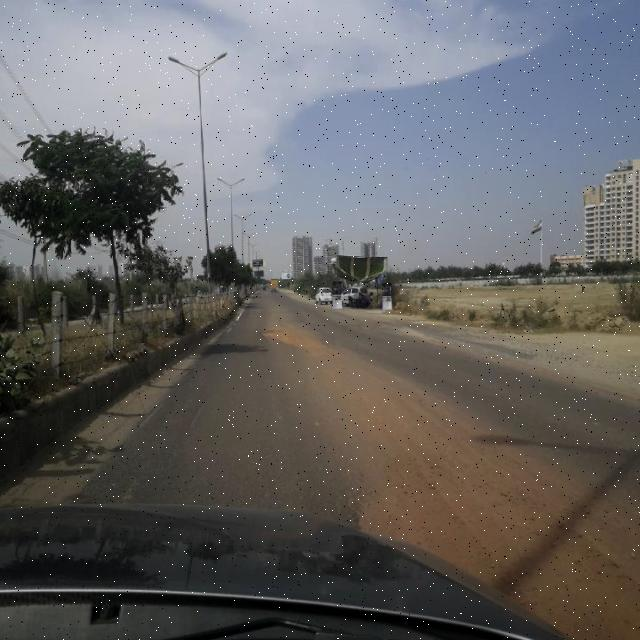D00: (185, 391, 214, 432), (136, 392, 165, 433)
D40: (340, 428, 638, 634), (255, 324, 350, 359)
